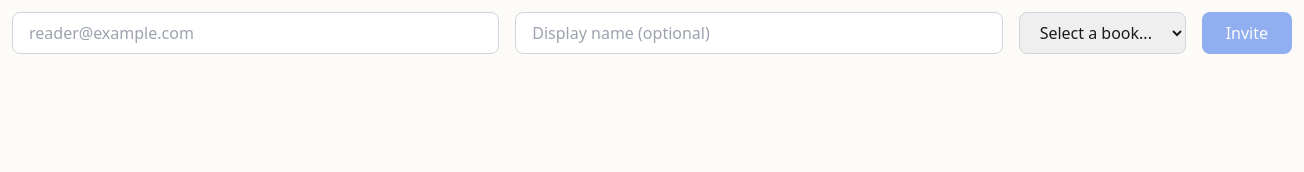
Test case: InviteReaderForm › shows success message on successful invite
In the field with placeholder "reader@example.com": {"x": 256, "y": 33} [12,12,499,54], type "test@example.com"
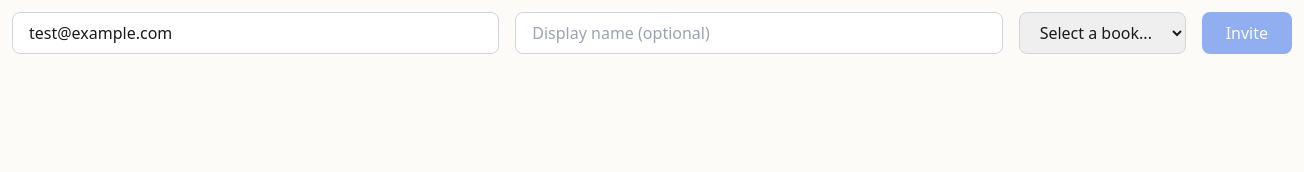
Select "Test Book 1" in the dropdown: {"x": 1102, "y": 33} [1019,12,1186,54]
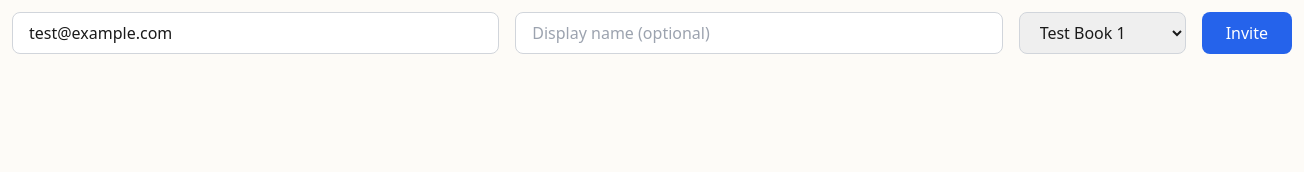
Click the button "Invite": {"x": 1247, "y": 33} [1202,12,1292,54]
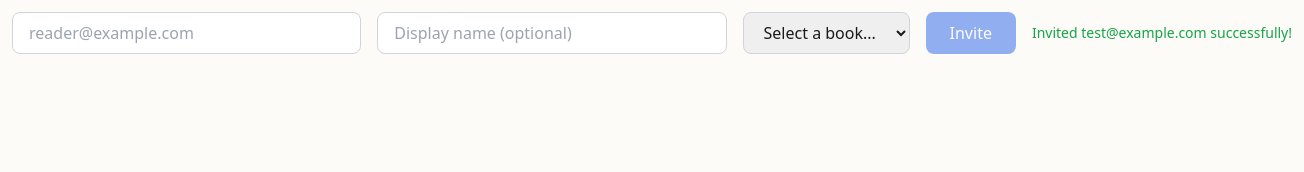
expect the text "Invited test@example.com successfully!" is shown: met, box [1032,23,1292,43]
